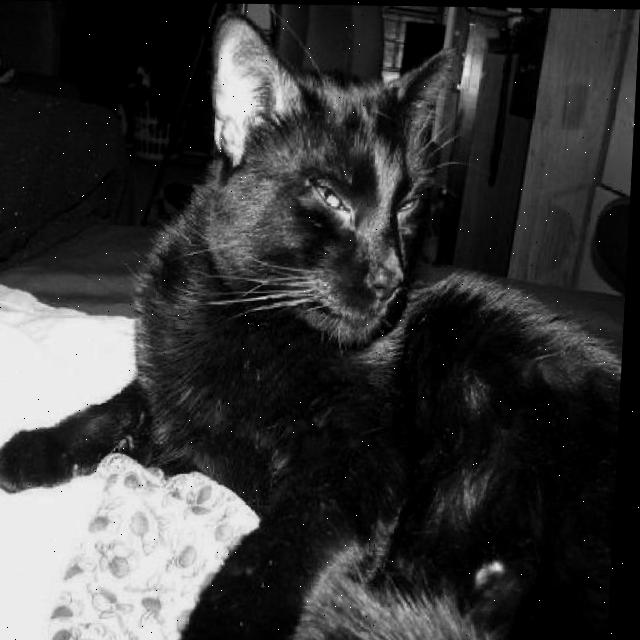Cat: (0, 10, 638, 640)
